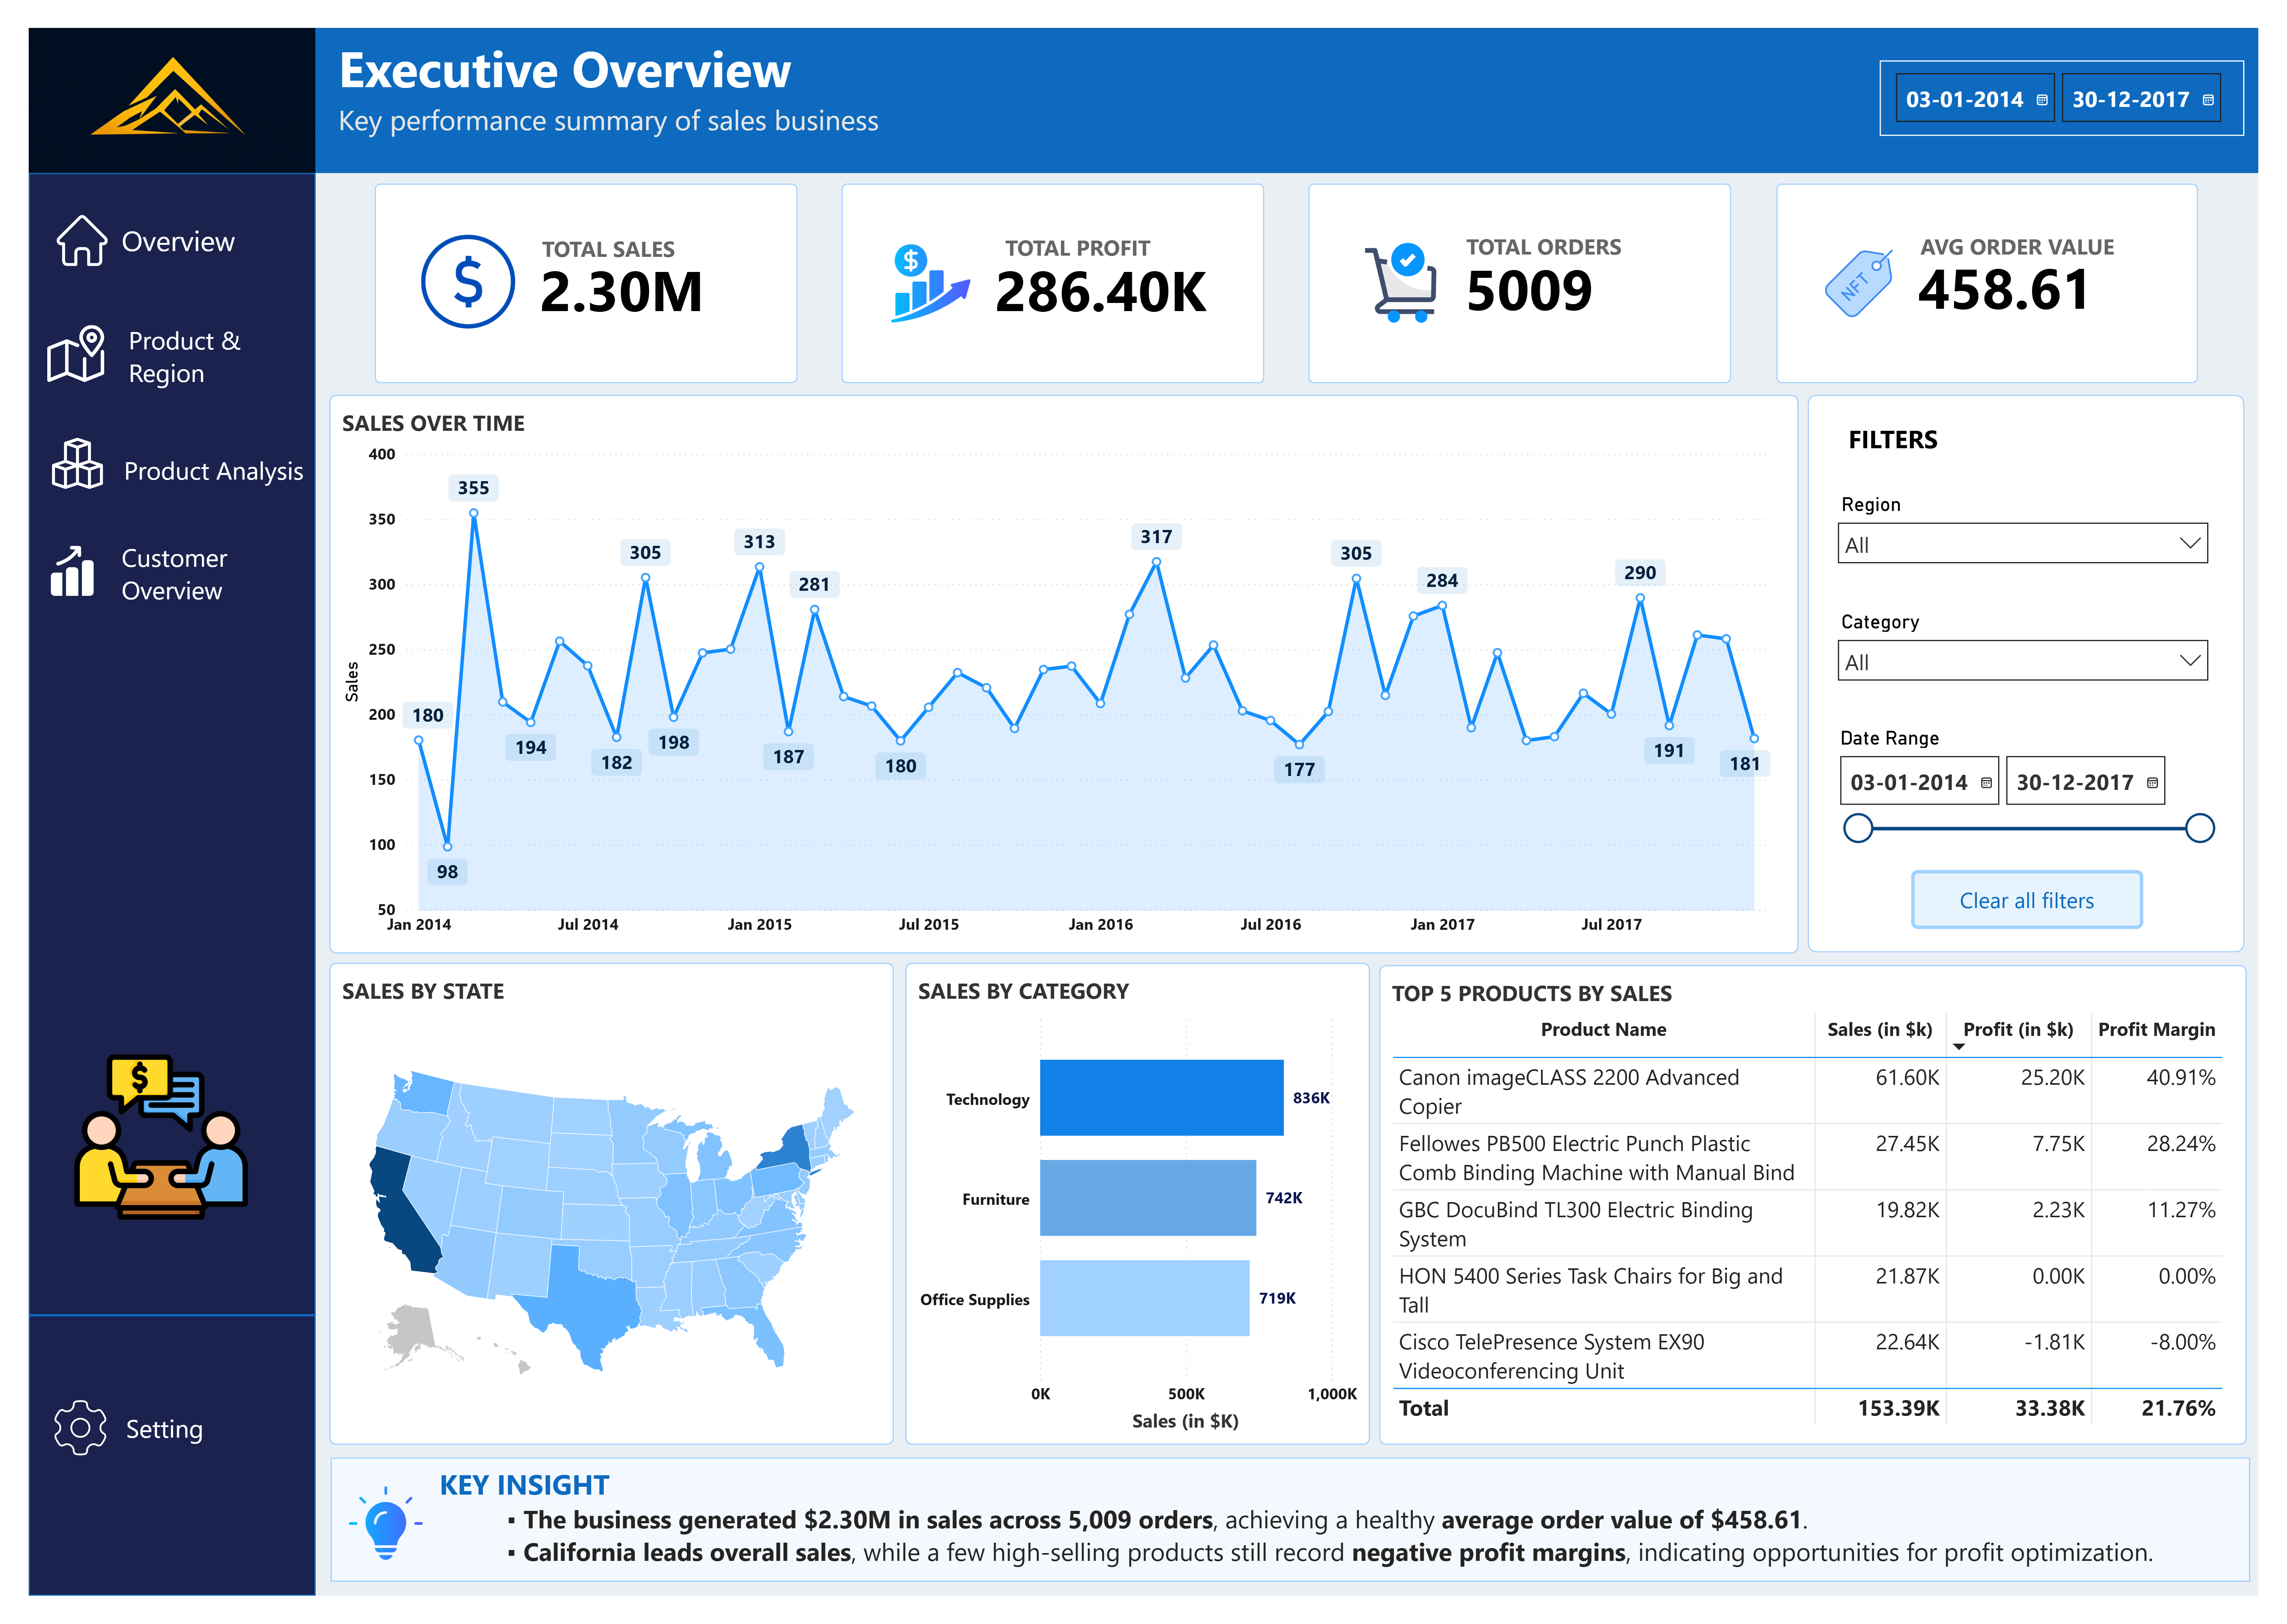

The page's visual inventory and layout, read from the dashboard file:
{"tool":"powerbi","page":{"name":"ExecutiveOverview","canvas":[1920,1350],"ordinal":0},"visuals":[{"type":"textbox","box":[247.1,0,1674.7,124.6],"z":0},{"type":"group","id":"g1","title":"Group 2","box":[298.3,134.3,1570.3,172],"z":0,"group":"g2"},{"type":"shape","box":[298.3,134.3,363.7,172],"z":0,"group":"g1"},{"type":"image","box":[6,161.3,80,43.6],"z":0,"group":"g7"},{"type":"image","box":[7.2,256.4,67.2,49.1],"z":0,"group":"g4"},{"type":"shape","box":[1532.4,316.3,376.2,479.8],"z":0,"group":"g8"},{"type":"image","box":[4,352.8,76.3,43.6],"z":0,"group":"g6"},{"type":"image","box":[5.5,443.5,65.4,49.1],"z":0,"group":"g5"},{"type":"textbox","box":[259.9,1231.1,1652.9,106.8],"z":0,"group":"g3"},{"type":"shape","box":[700.5,134.3,363.7,172],"z":1000,"group":"g1"},{"type":"textbox","box":[74.5,161.5,148,62],"z":1000,"group":"g7"},{"type":"image","box":[338.7,175.9,81.1,84.6],"z":1000,"group":"g2"},{"type":"textbox","box":[81.3,249.1,172.7,76.3],"z":1000,"group":"g4"},{"type":"lineChart","title":"SALES OVER TIME","fields":{"Y":["Avg(Superstore.Sales)"],"Category":["Superstore.Order Date.Variation.Date Hierarchy.Year","Superstore.Order Date.Variation.Date Hierarchy.Month"]},"box":[259,316.3,1265.4,480.5],"z":1000},{"type":"textbox","box":[76.7,360.7,174.5,56.3],"z":1000,"group":"g6"},{"type":"slicer","fields":{"Values":["Superstore.Region"]},"box":[1548.6,395.4,339,102],"z":1000,"group":"g8"},{"type":"textbox","box":[76,436.2,171.2,85.4],"z":1000,"group":"g5"},{"type":"image","box":[267.8,1250.9,79.1,73.2],"z":1000,"group":"g3"},{"type":"slicer","fields":{"Values":["Superstore.Order Date"]},"box":[1593.6,27.7,314.4,65.2],"z":2000},{"type":"shape","box":[1102.7,134.3,363.7,172],"z":2000,"group":"g1"},{"type":"image","box":[728.4,181.5,97.5,77.3],"z":2000,"group":"g2"},{"type":"slicer","fields":{"Values":["Superstore.Order Date"]},"box":[1547.4,596.5,344,160.2],"z":2000,"group":"g8"},{"type":"shape","box":[1504.9,134.3,363.7,172],"z":3000,"group":"g1"},{"type":"image","box":[1138.4,185.1,86,69.2],"z":3000,"group":"g2"},{"type":"textbox","box":[1562.5,334.5,136.5,60.5],"z":3000,"group":"g8"},{"type":"shapeMap","title":"SALES BY STATE","fields":{"Category":["Superstore.State"],"Value":["Sum(Superstore.Sales)"]},"box":[259,804.7,486.4,415.2],"z":3000},{"type":"cardVisual","fields":{"Data":["Superstore.Total Sales"]},"box":[411.3,154.9,231.4,135.2],"z":4000,"group":"g1"},{"type":"image","box":[1546.4,183.3,60,72.8],"z":4000,"group":"g2"},{"type":"slicer","fields":{"Values":["Superstore.Category"]},"box":[1548.1,496.7,339.5,106],"z":4000,"group":"g8"},{"type":"clusteredBarChart","title":"SALES BY CATEGORY","fields":{"Y":["Sum(Superstore.Sales)"],"Category":["Superstore.Category"]},"box":[755.3,804.7,399.4,415.2],"z":4000},{"type":"textbox","box":[436.9,171.9,156.2,41.4],"z":5000,"group":"g1"},{"type":"actionButton","box":[1621.2,725.2,199.9,50.9],"z":5000,"group":"g8"},{"type":"tableEx","title":"TOP 5 PRODUCTS BY SALES","fields":{"Values":["Superstore.Product Name","Sum(Superstore.Sales)","Sum(Superstore.Profit)","Superstore.Profit Margin %"]},"box":[1162.6,806.7,747.4,413.2],"z":5000},{"type":"image","box":[0,0,247.1,124.6],"z":6000},{"type":"cardVisual","fields":{"Data":["Superstore.Total Profit"]},"box":[803.3,143.4,267.5,159.2],"z":6000,"group":"g1"},{"type":"group","id":"g2","title":"Group 6","box":[298.3,134.3,1570.3,172],"z":7000},{"type":"textbox","box":[836.1,171.5,175,47.8],"z":7000,"group":"g1"},{"type":"cardVisual","fields":{"Data":["Superstore.Total Orders"]},"box":[1208.3,143.4,234,156.5],"z":8000,"group":"g1"},{"type":"group","id":"g3","title":"Group 8","box":[259.9,1231.1,1652.9,106.8],"z":8000},{"type":"shape","box":[0,125,247.2,1225],"z":9000},{"type":"cardVisual","fields":{"Data":["Superstore.Avg Order Value"]},"box":[1598.2,147.7,234,147.2],"z":9000,"group":"g1"},{"type":"textbox","box":[1623.9,170.6,208.2,35],"z":10000,"group":"g1"},{"type":"group","id":"g4","title":"Group 2","box":[7.2,249.1,246.8,76.3],"z":10000},{"type":"textbox","box":[1233.4,170.6,177.3,35],"z":11000,"group":"g1"},{"type":"group","id":"g5","title":"Group 4","box":[5.5,436.2,241.7,85.4],"z":11000},{"type":"group","id":"g6","title":"Group 4","box":[4,352.8,247.2,64.2],"z":12000},{"type":"group","id":"g7","title":"Group 5","box":[6,161.3,216.5,62.2],"z":13000},{"type":"image","box":[19.8,879.8,187.8,150.3],"z":14000},{"type":"image","box":[19.8,1166.5,49.4,77.1],"z":15000},{"type":"textbox","box":[73.2,1186.3,152.2,51.4],"z":16000},{"type":"shape","box":[0,1079.5,247.1,57.3],"z":17000},{"type":"group","id":"g8","title":"Group 1","box":[1532.4,316.3,376.2,479.8],"z":18000}]}

Visuals, with their boxes on the page's 1920x1350 design canvas (x1, y1, x2, y2). These are canvas units, not pixel positions in the 2287x1624 screenshot, which may show the page scaled, cropped or inside an application window:
textbox: (247,0,1922,125)
"Group 2" group: (298,134,1869,306)
shape: (298,134,662,306)
image: (6,161,86,205)
image: (7,256,74,306)
shape: (1532,316,1909,796)
image: (4,353,80,396)
image: (6,444,71,493)
textbox: (260,1231,1913,1338)
shape: (700,134,1064,306)
textbox: (74,162,222,224)
image: (339,176,420,260)
textbox: (81,249,254,325)
"SALES OVER TIME" lineChart: (259,316,1524,797)
textbox: (77,361,251,417)
slicer - Superstore.Region: (1549,395,1888,497)
textbox: (76,436,247,522)
image: (268,1251,347,1324)
slicer - Superstore.Order Date: (1594,28,1908,93)
shape: (1103,134,1466,306)
image: (728,182,826,259)
slicer - Superstore.Order Date: (1547,596,1891,757)
shape: (1505,134,1869,306)
image: (1138,185,1224,254)
textbox: (1562,334,1699,395)
"SALES BY STATE" shapeMap: (259,805,745,1220)
cardVisual - Superstore.Total Sales: (411,155,643,290)
image: (1546,183,1606,256)
slicer - Superstore.Category: (1548,497,1888,603)
"SALES BY CATEGORY" clusteredBarChart: (755,805,1155,1220)
textbox: (437,172,593,213)
actionButton: (1621,725,1821,776)
"TOP 5 PRODUCTS BY SALES" tableEx: (1163,807,1910,1220)
image: (0,0,247,125)
cardVisual - Superstore.Total Profit: (803,143,1071,303)
"Group 6" group: (298,134,1869,306)
textbox: (836,172,1011,219)
cardVisual - Superstore.Total Orders: (1208,143,1442,300)
"Group 8" group: (260,1231,1913,1338)
shape: (0,125,247,1350)
cardVisual - Superstore.Avg Order Value: (1598,148,1832,295)
textbox: (1624,171,1832,206)
"Group 2" group: (7,249,254,325)
textbox: (1233,171,1411,206)
"Group 4" group: (6,436,247,522)
"Group 4" group: (4,353,251,417)
"Group 5" group: (6,161,222,224)
image: (20,880,208,1030)
image: (20,1166,69,1244)
textbox: (73,1186,225,1238)
shape: (0,1080,247,1137)
"Group 1" group: (1532,316,1909,796)
